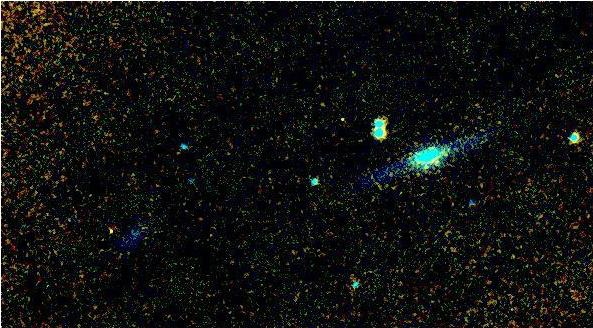star: (91, 216, 121, 246)
